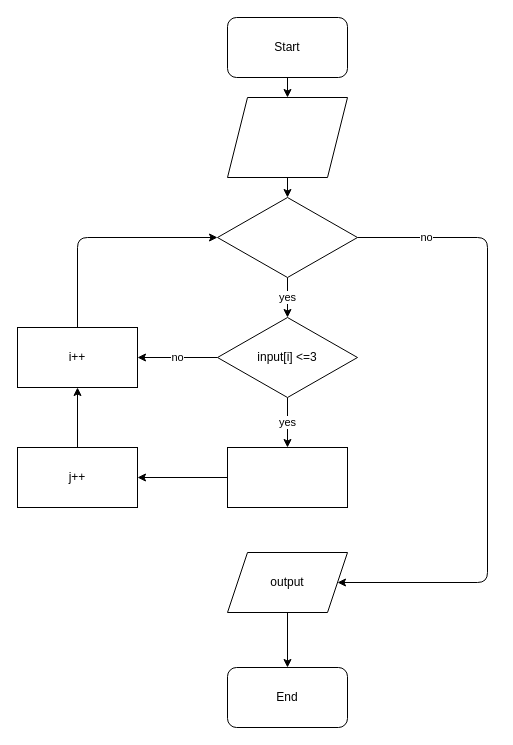
Image size: 513x745. Some labels were removed from this diagram. The shapes that lost their labels are listed below. From the top down, each one's centre as x and y in pixels, then its label:
At (287,137): "string [] input string [] output i = 0 j = 0 n = 3".
At (287,237): "i < input.lenght".
At (287,477): "output[j] = input[i]".
